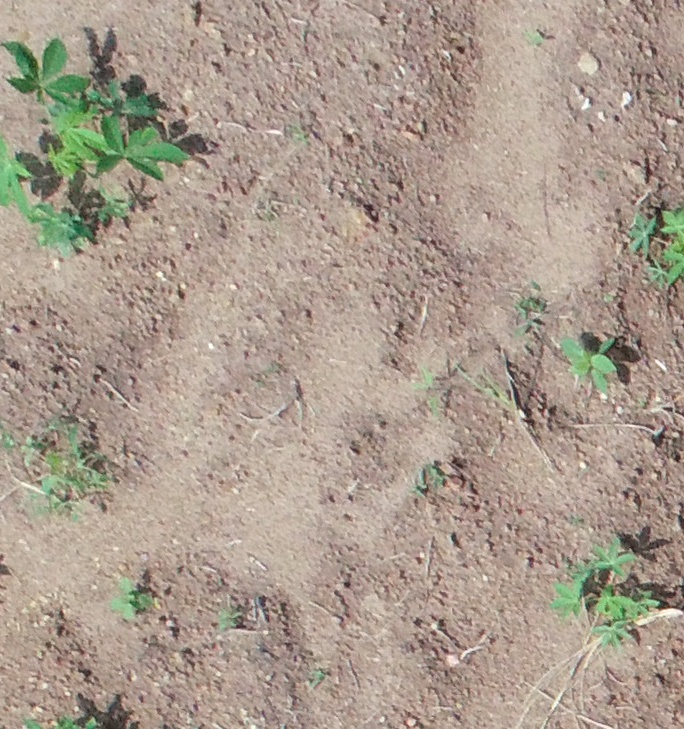stand: (1, 30, 184, 243), (548, 527, 669, 652)
